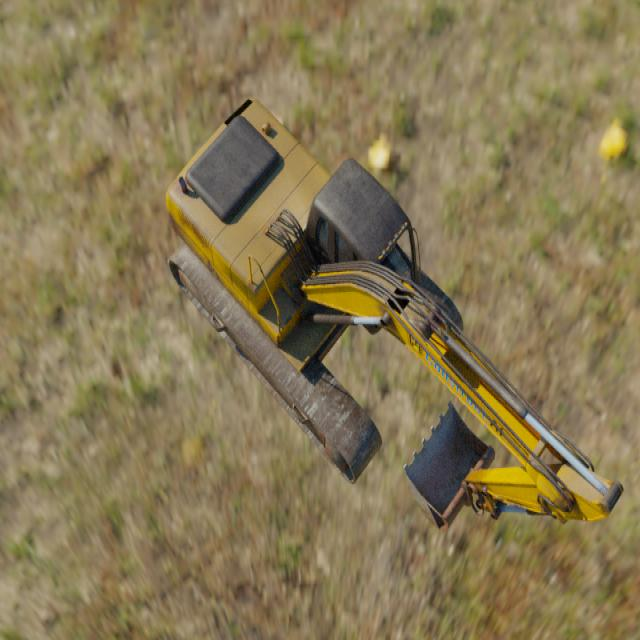excavator: (165, 98, 624, 530)
